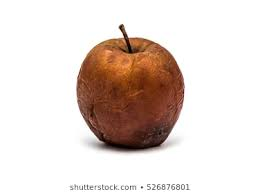damaged_apple: (74, 37, 187, 151)
